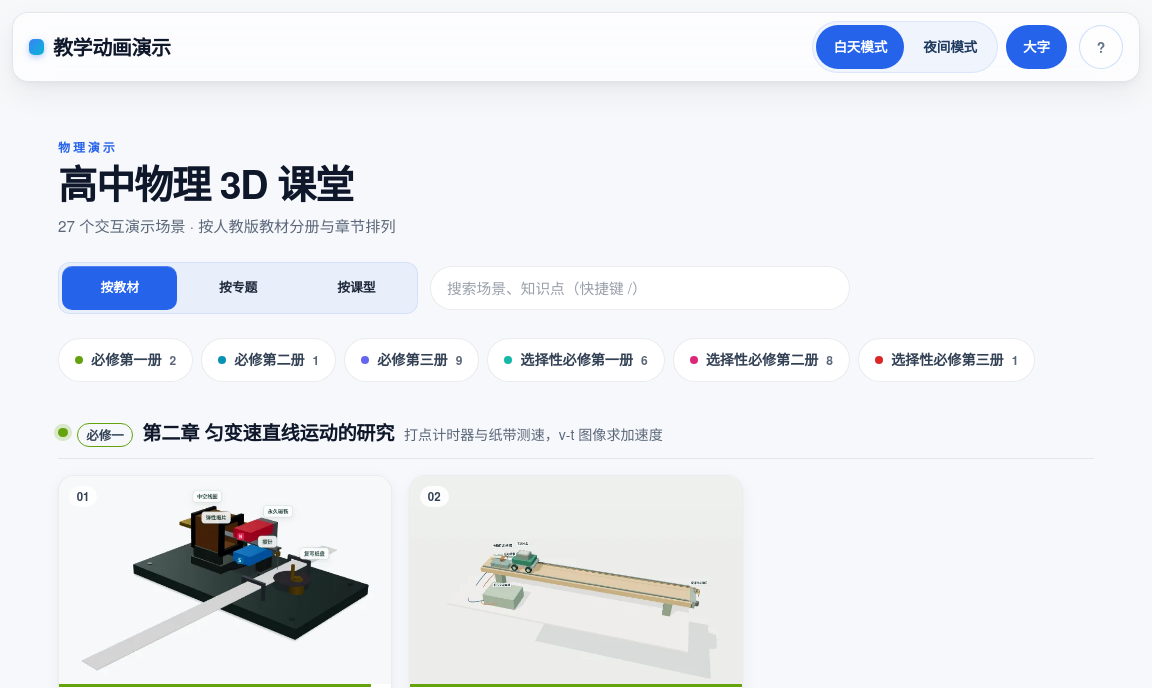
App shell › filters the overview with search
The image size is (1152, 688).
In the search field labelled "搜索场景": (640, 288) [430,266,850,310], type "洛伦兹"
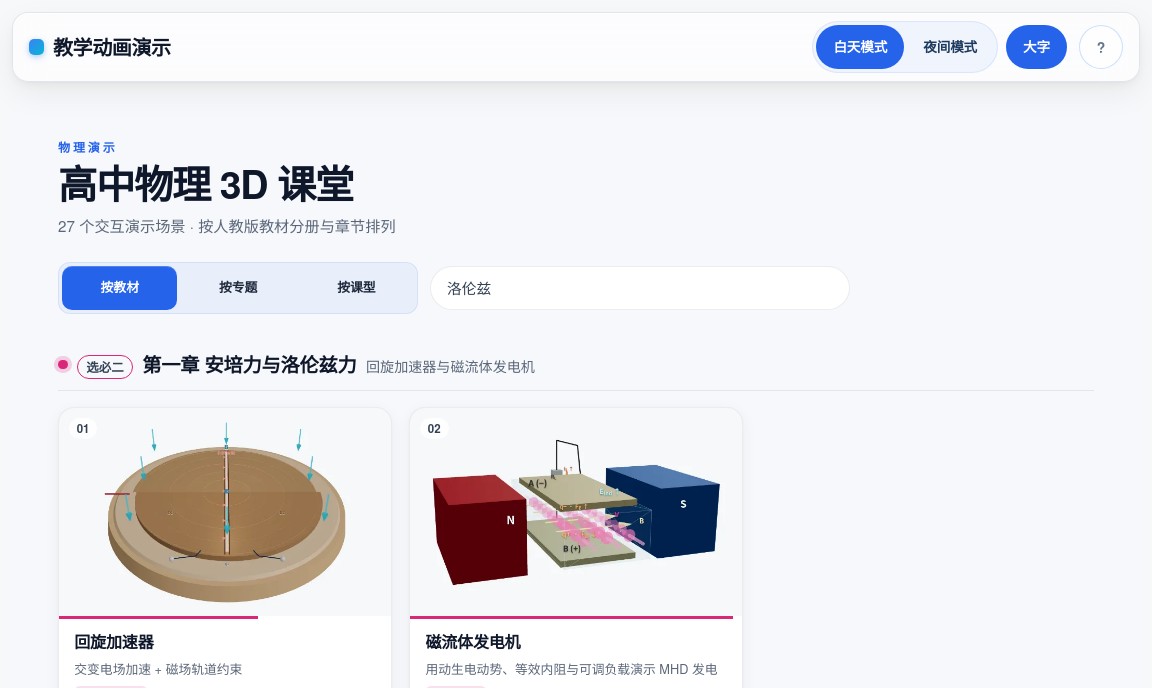
Check: the text "磁流体发电机" is shown, box [425,630,520,653]
Check: the text "打点计时器" is gone
Replace the text in the search field named "搜索场景" with "不存在的场景": (640, 288) [430,266,850,310]
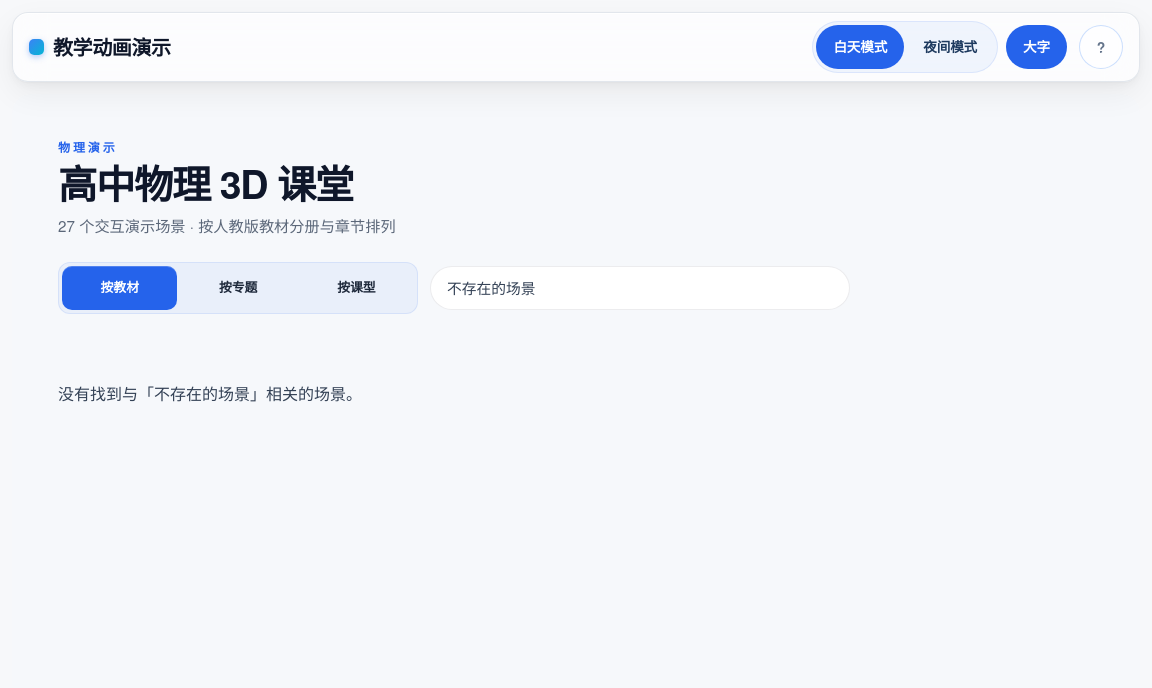
Check: the text "没有找到与「不存在的场景」相关的场景。" is shown, box [58,382,362,405]
